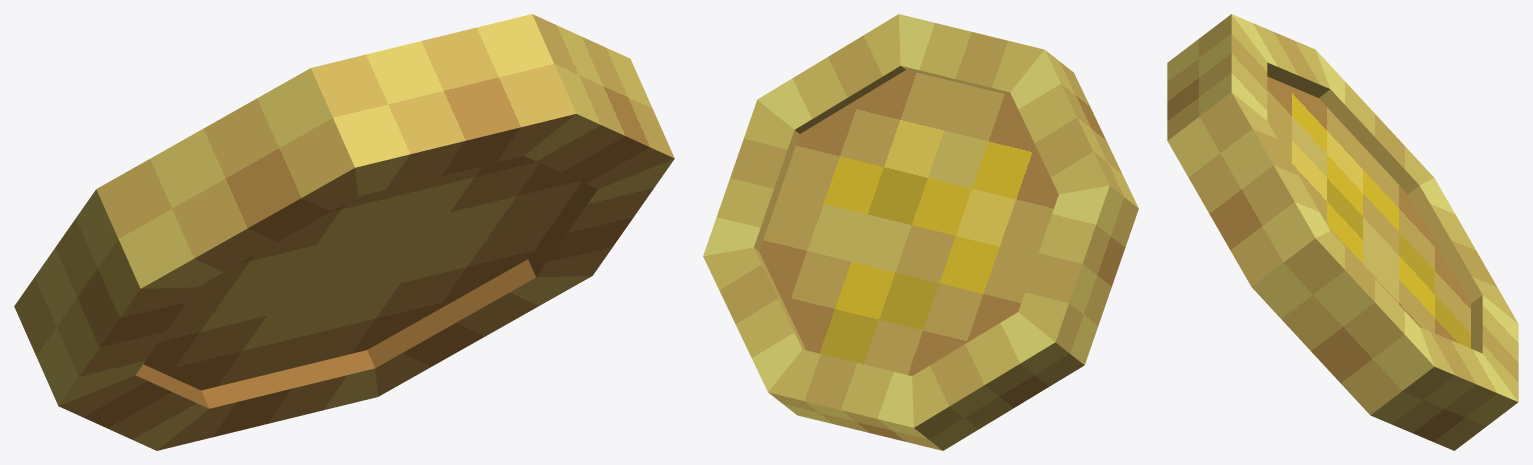
File: coin.fbx
3 renders of one model, left to right at view 1: azimuth 30°, elevation 25°; view 2: azimuth 150°, elevation 25°; view 3: azimuth 270°, elevation 25°, orthographic. The views are drawn at different scales.
Visible parts, largest first — view 1: cylinder; view 2: cylinder; view 3: cylinder.
Part boxes in pixels (bbox=[...]): cylinder: bbox=[14, 14, 674, 450]; cylinder: bbox=[703, 14, 1138, 450]; cylinder: bbox=[1167, 14, 1518, 450].
Bounding box in the file's own units: 50 × 44.33 × 39.32.
1 material, 1 textured.
